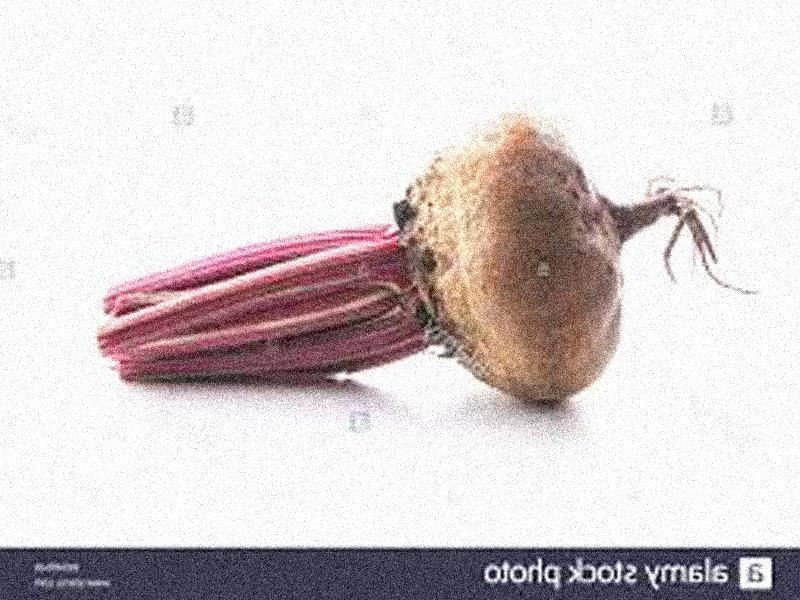Beet: (97, 115, 758, 403)
